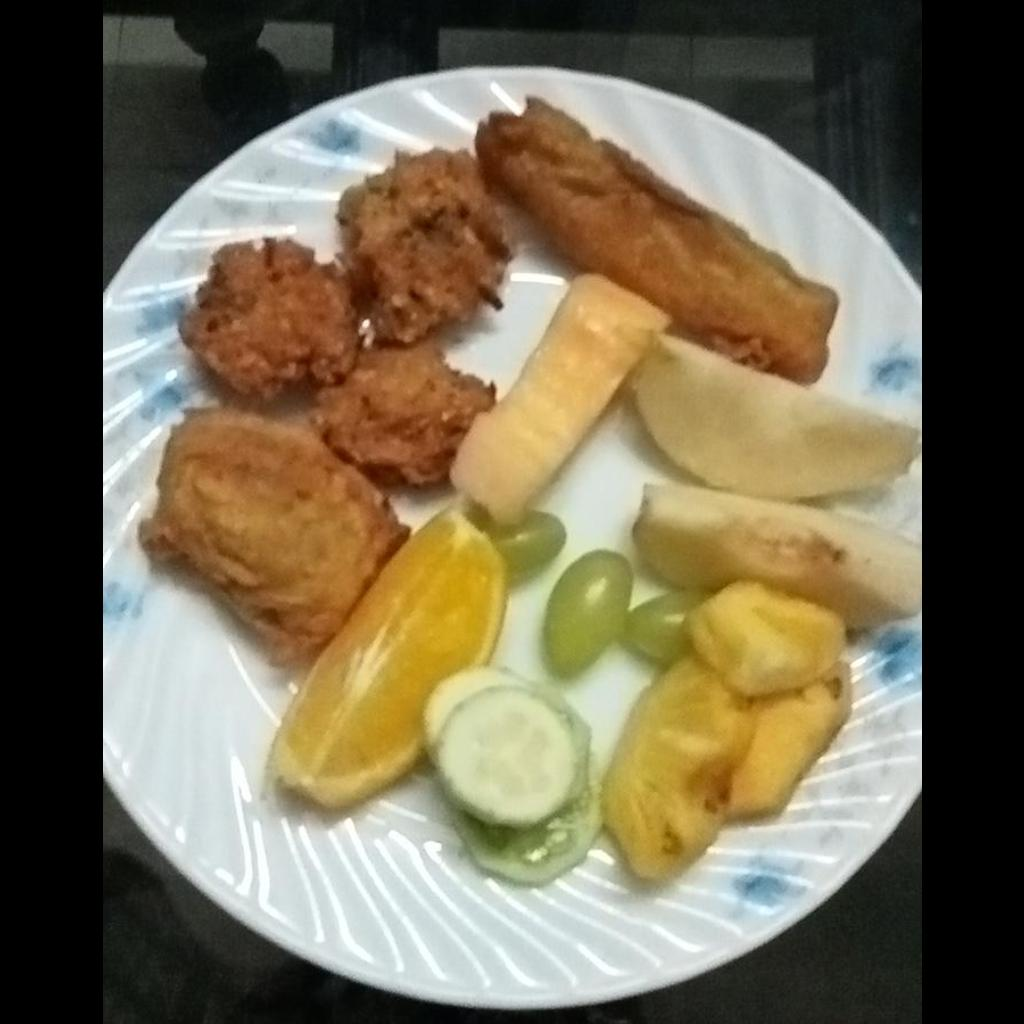apple: (458, 276, 920, 627)
beguni: (481, 101, 837, 379)
chop-alu: (140, 411, 408, 652)
cucumber: (421, 664, 608, 887)
grapes: (543, 548, 708, 668)
orange: (270, 510, 500, 804)
peyaju: (176, 142, 510, 481)
pineapple: (608, 593, 854, 891)
